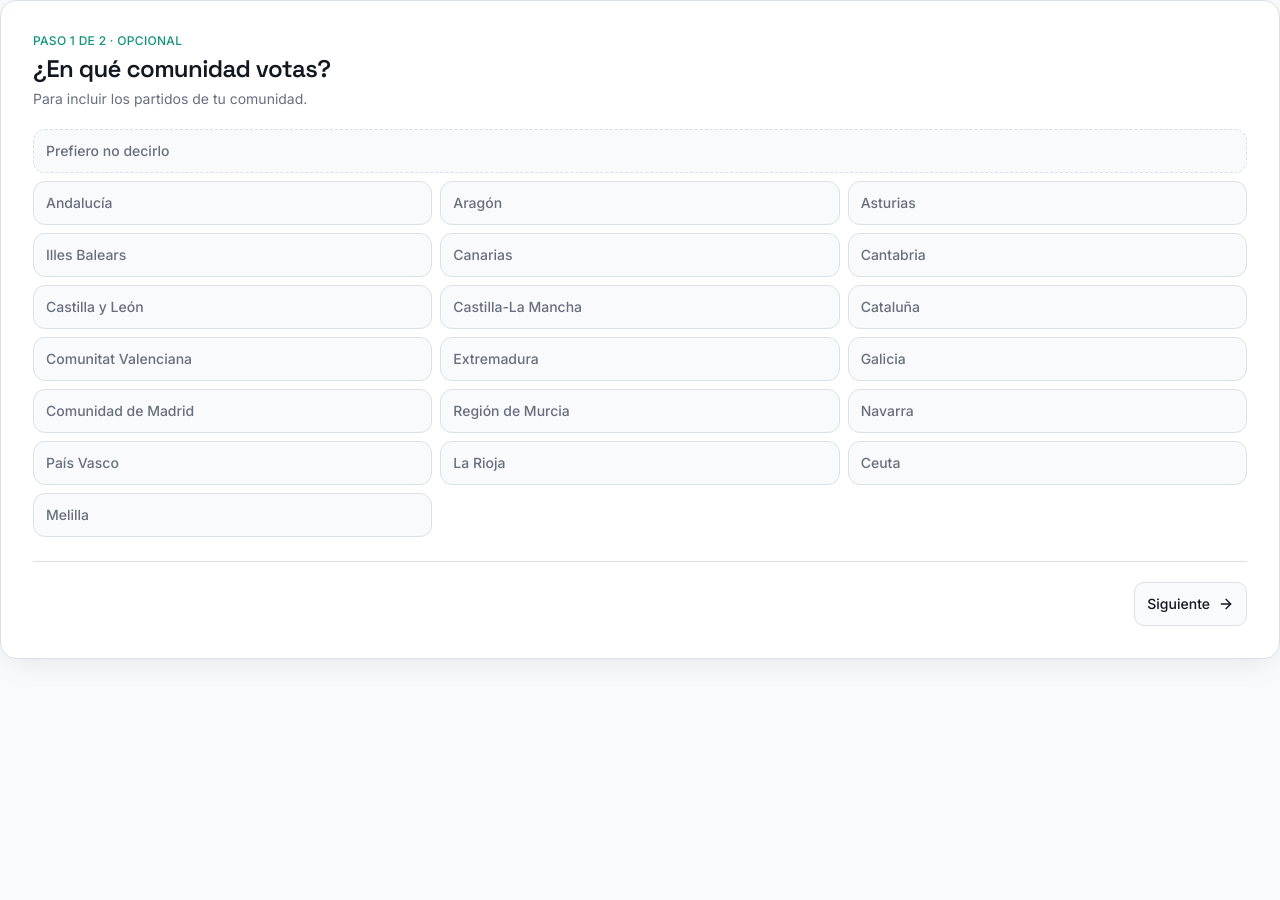
Test: afinidad: flujo del test › sin comunidad, el regional queda tras «ver todos»
The image size is (1280, 900).
Click the button "Prefiero no decirlo": (108, 151) [33,129,1247,173]
Wait 200 ms
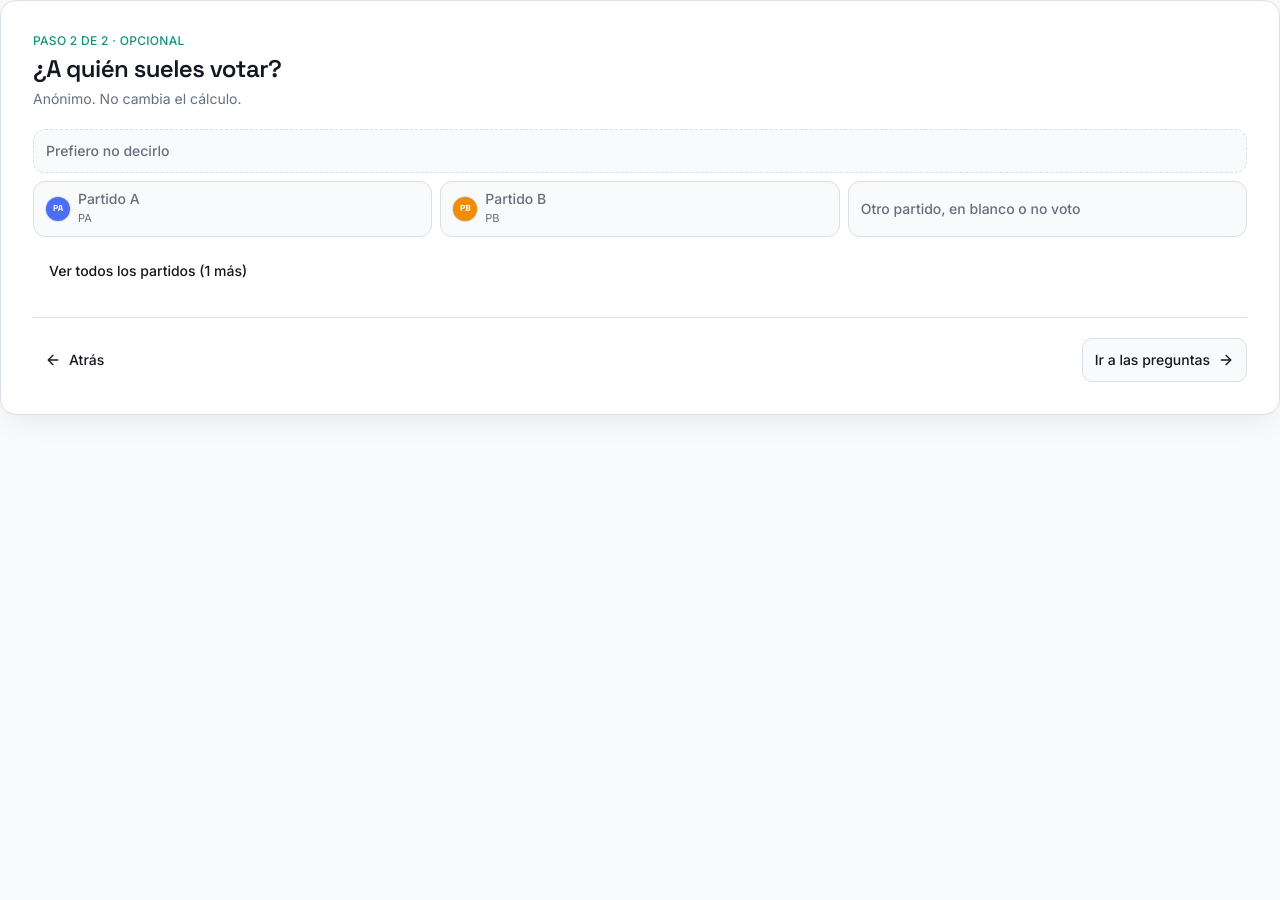
Expected: the button "Partido C" is not shown
Click the button "Ver todos los partidos (1 más)": (148, 270) [33,248,263,292]
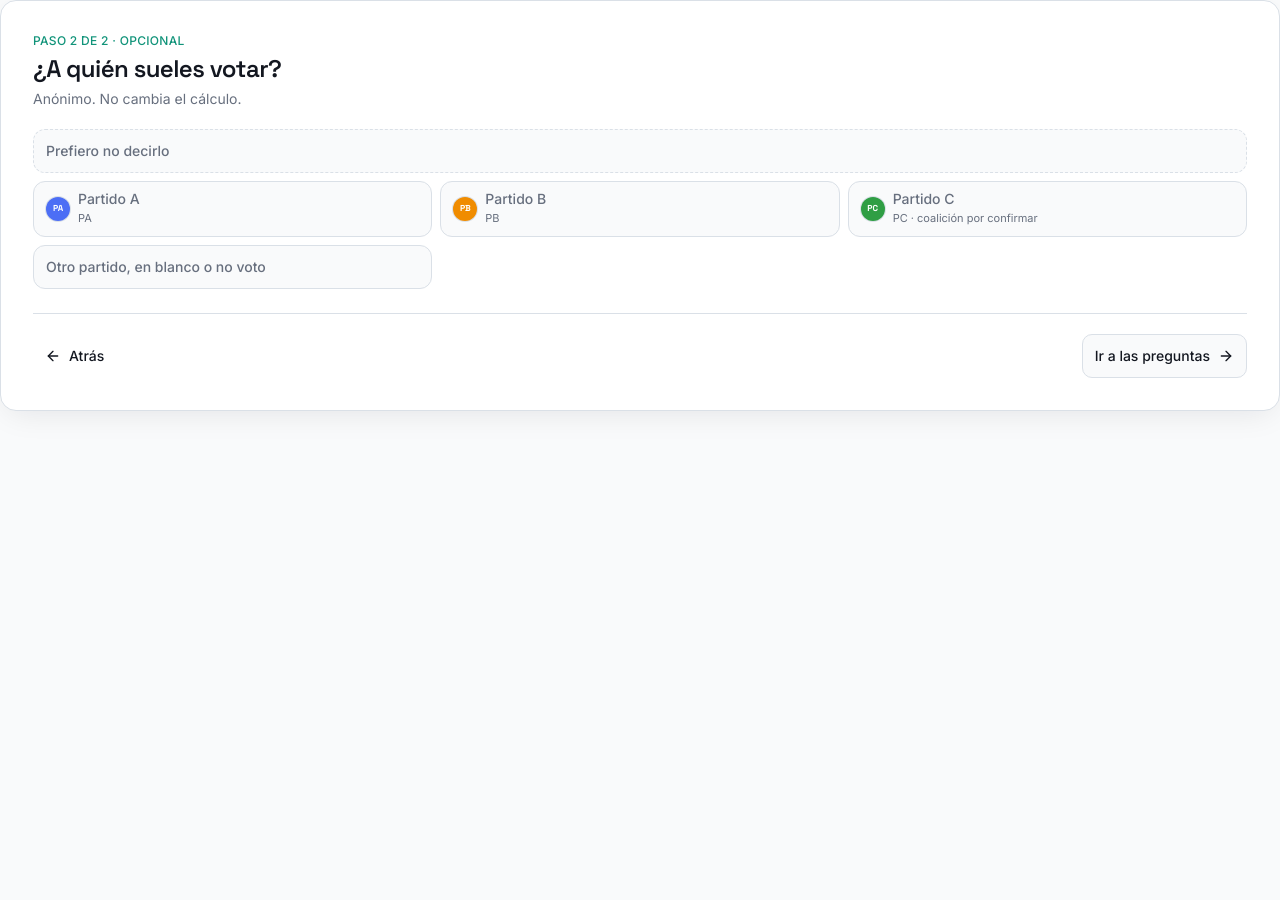
Expected: the button "PC Partido C PC · coalición por confirmar" is shown, [848,181,1247,236]
